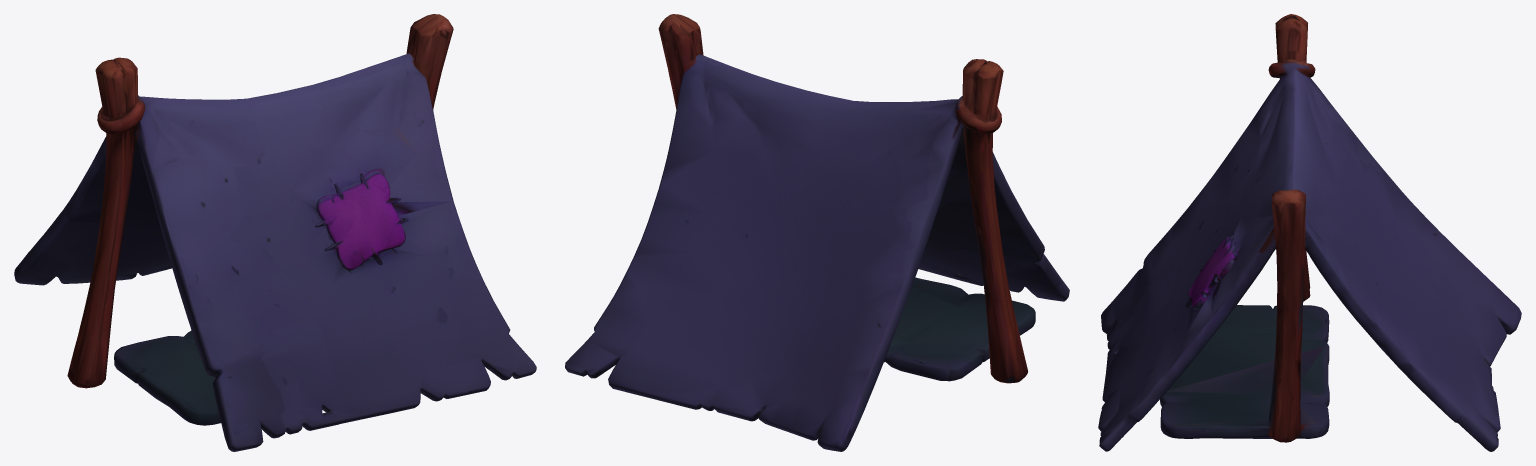
Rendered from mod-tent1.fbx.
The picture shows the model from 3 angles, left to right: view 1: azimuth 30°, elevation 25°; view 2: azimuth 150°, elevation 25°; view 3: azimuth 270°, elevation 25°; orthographic projection. The views are drawn at different scales.
Visible parts, largest first — view 1: texture_pbr_v128.004; view 2: texture_pbr_v128.004; view 3: texture_pbr_v128.004.
Boxes of the visible parts, x1,y1,x2,y2 form: texture_pbr_v128.004: (14,14,536,451); texture_pbr_v128.004: (565,14,1069,451); texture_pbr_v128.004: (1098,14,1521,451).
Bounding box in the file's own units: 51.87 × 43.09 × 55.19.
1 material, 1 textured.
